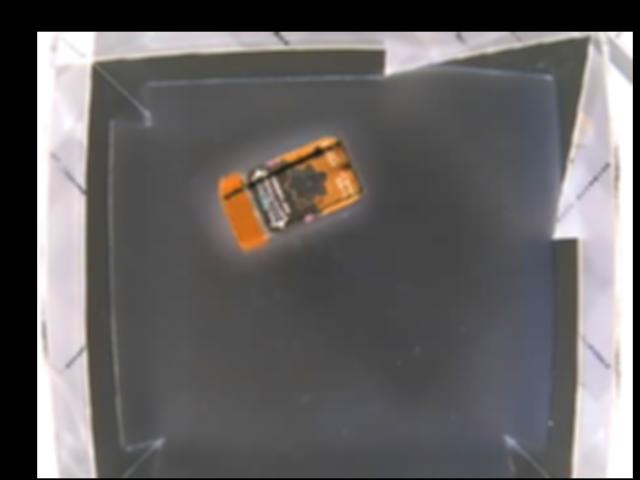Bottle: (217, 135, 364, 251)
